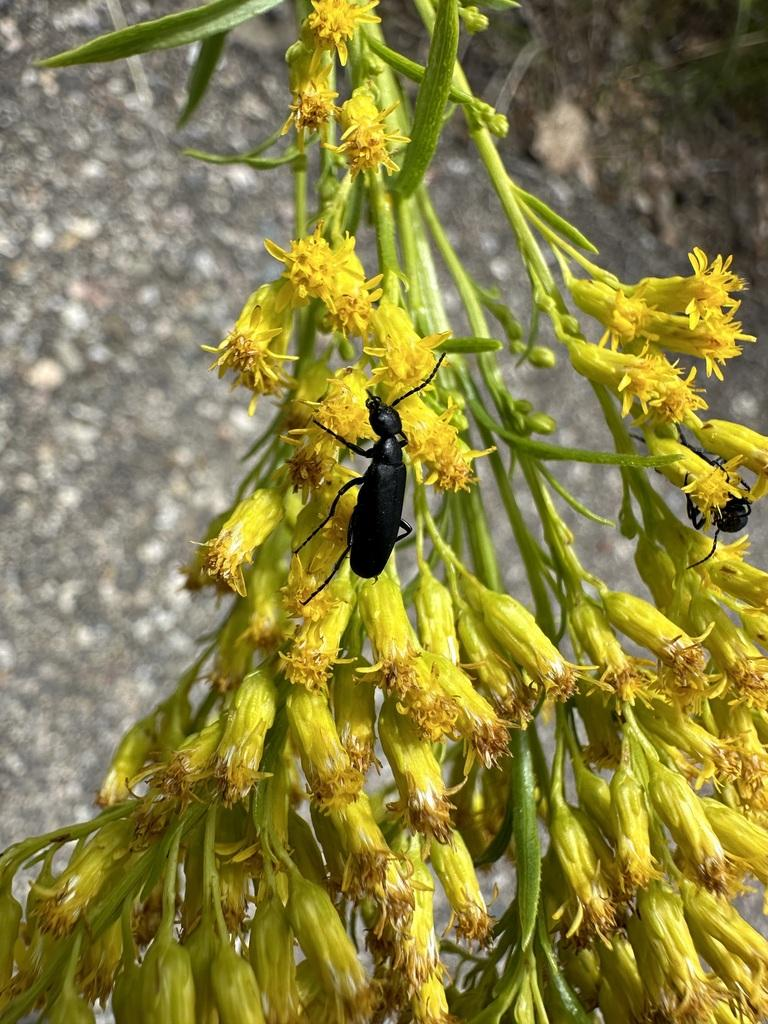blister_beetle: (278, 322, 487, 641)
